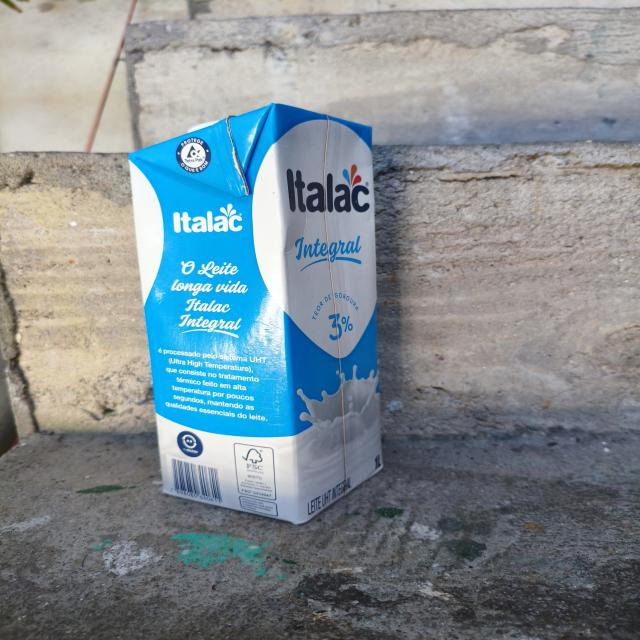Caixa de Leite: (122, 98, 388, 535)
